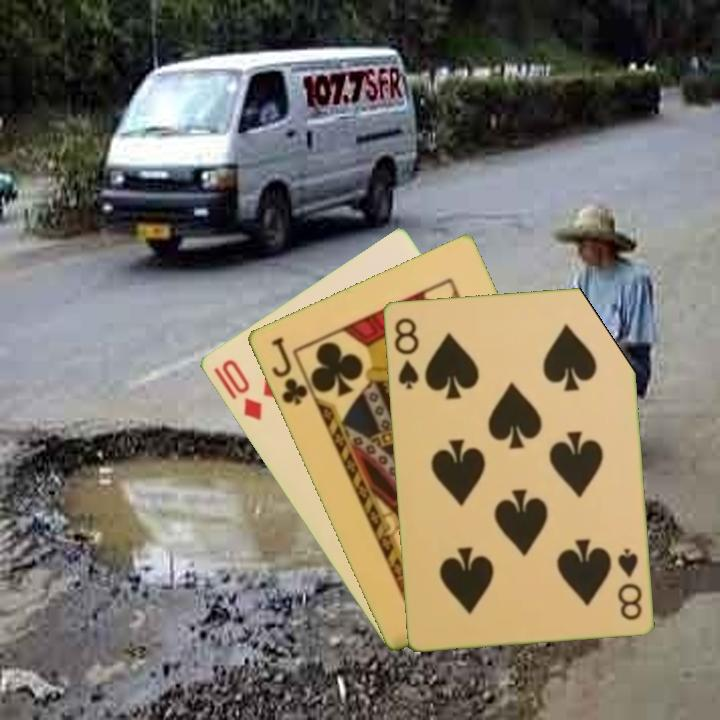10d: (217, 355, 265, 423)
8s: (390, 314, 422, 391), (613, 544, 644, 623)
Jc: (267, 333, 310, 408)
